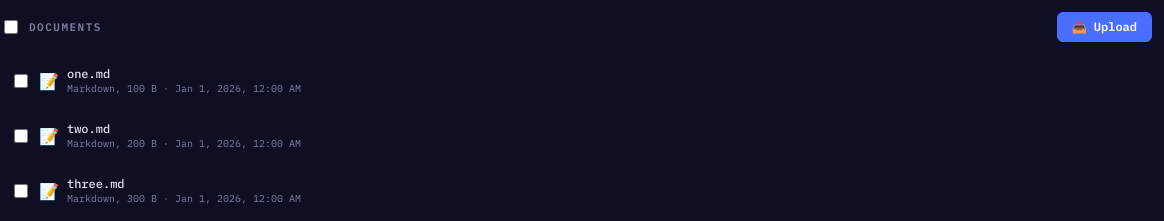
DocumentList - bulk delete › shows Delete N selected button when documents are checked
This screenshot has width=1164, height=221.
Click the checkbox next to "one.md".
click(21, 80)  # box [14, 74, 28, 88]
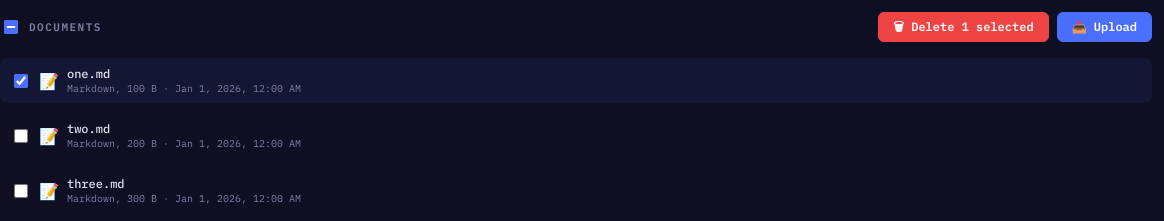
Click the checkbox next to "two.md".
click(21, 136)  # box [14, 128, 28, 142]
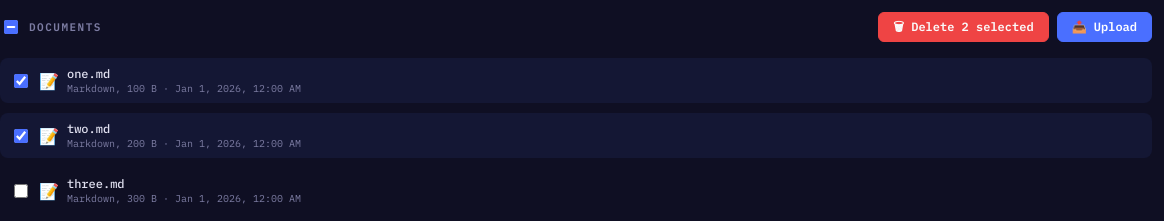
Now the element with class "dl-header__actions" reads "🗑 Delete 2 selected 📤 Upload", box [878, 12, 1049, 42]
